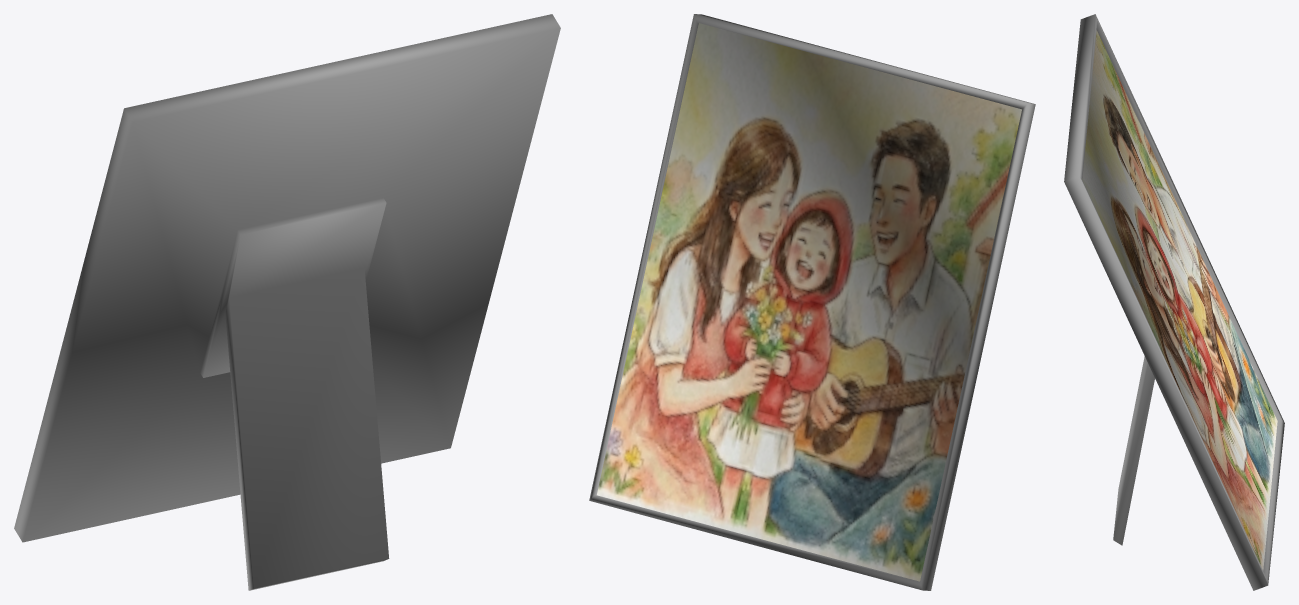
The model's file is poto.fbx.
3 renders of one model, left to right at view 1: azimuth 30°, elevation 25°; view 2: azimuth 150°, elevation 25°; view 3: azimuth 270°, elevation 25°, orthographic. The views are drawn at different scales.
Parts seen in each view (by area): view 1: Cube.116; view 2: Cube.116; view 3: Cube.116.
Boxes of the visible parts, x1,y1,x2,y2 form: Cube.116: [14, 14, 560, 590]; Cube.116: [589, 14, 1035, 590]; Cube.116: [1064, 14, 1284, 590].
Size of the model in its own units: 36.14 by 43.04 by 20.3.
1 material, 1 textured.
